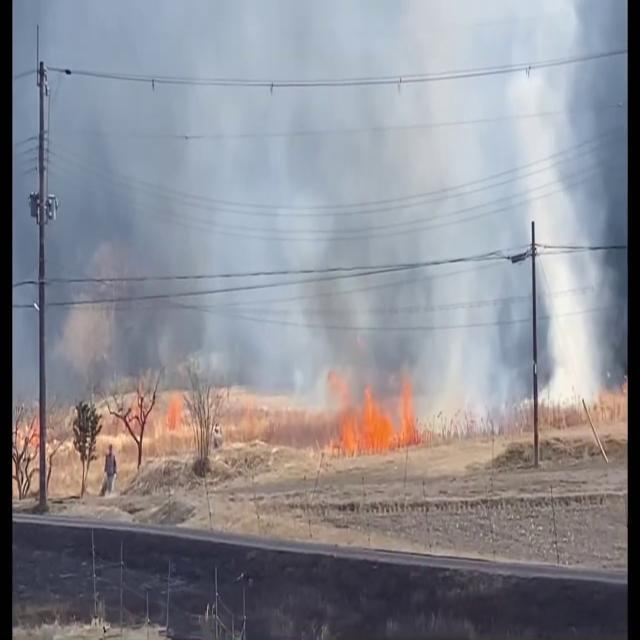Fire: (327, 362, 439, 463)
Smoke: (24, 1, 625, 438)
